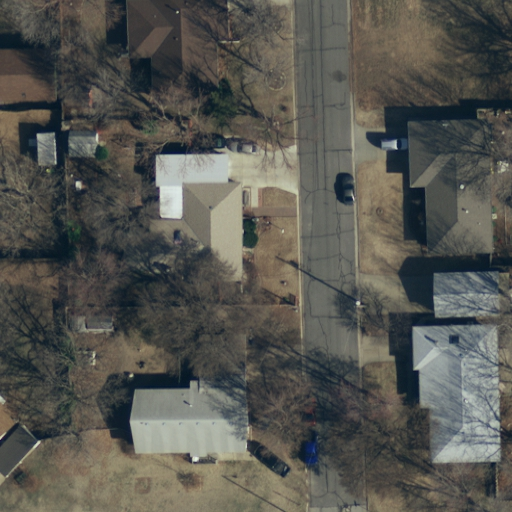DT: (349, 294, 368, 315)
